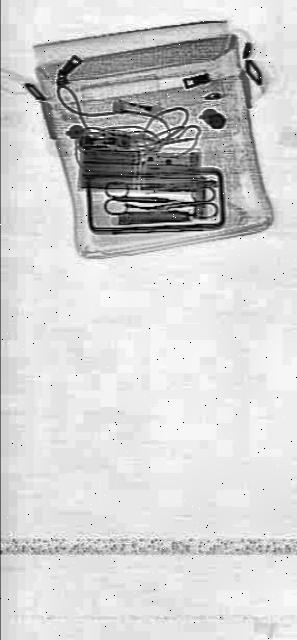Scissors: (148, 187, 216, 227), (102, 183, 164, 219)
